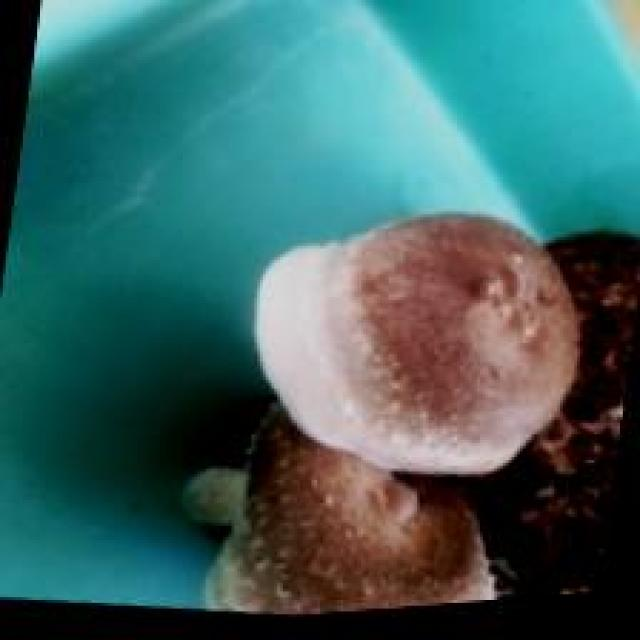death-cap: (251, 209, 583, 477)
